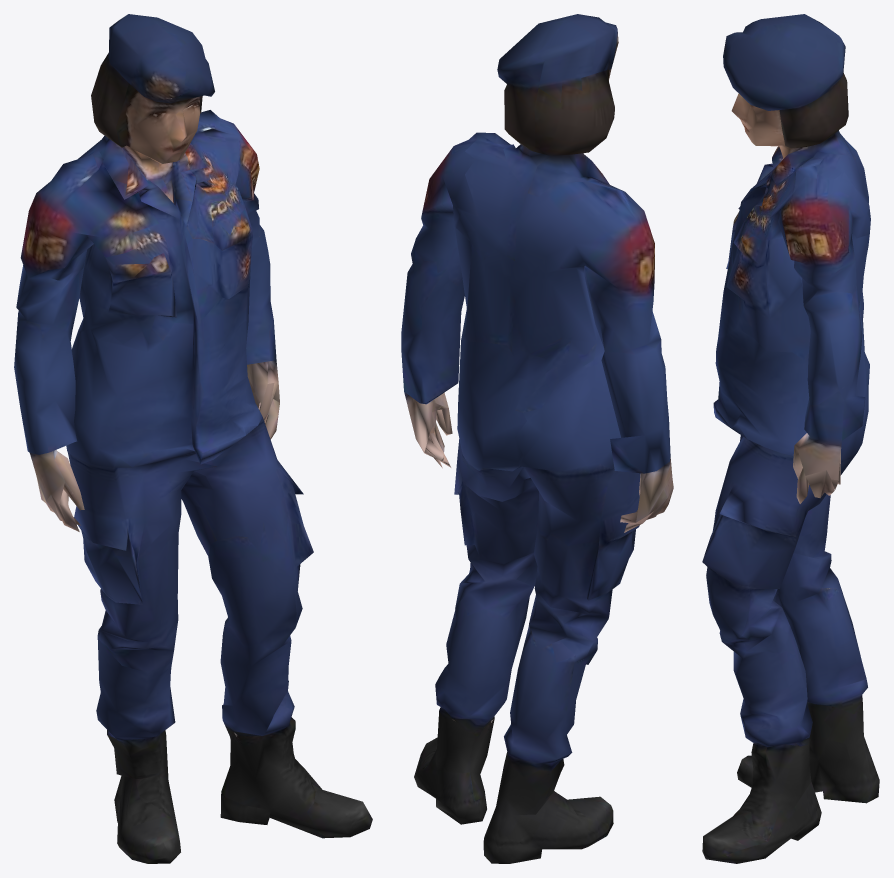
The model's file is polwan_airud_idle_lod2.glb.
3 renders of one model, left to right at view 1: azimuth 30°, elevation 25°; view 2: azimuth 150°, elevation 25°; view 3: azimuth 270°, elevation 25°, orthographic. The views are drawn at different scales.
Visible parts, largest first — view 1: tripo_node_369dcfce-11a7-43f9-b8d2-20094988689a; view 2: tripo_node_369dcfce-11a7-43f9-b8d2-20094988689a; view 3: tripo_node_369dcfce-11a7-43f9-b8d2-20094988689a.
Part boxes in pixels (left/top/right/bottom): tripo_node_369dcfce-11a7-43f9-b8d2-20094988689a: left=14, top=14, right=372, bottom=863; tripo_node_369dcfce-11a7-43f9-b8d2-20094988689a: left=401, top=14, right=673, bottom=863; tripo_node_369dcfce-11a7-43f9-b8d2-20094988689a: left=702, top=14, right=879, bottom=863.
Size of the model in its own units: 37.28 by 98.75 by 20.73.
1 material, 1 textured.
